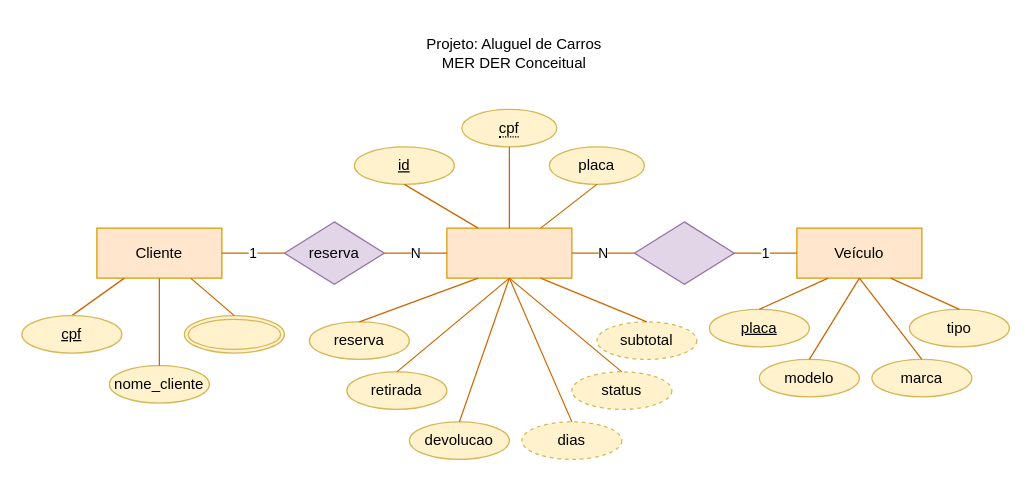
The diagram is 1031 pixels wide and 481 high, and some of its shapes have lost their labels. Each missing label, with the centre of its shape:
"Aluguel" goes at (509,252).
"posui" goes at (683,252).
"telefones" goes at (233,333).
